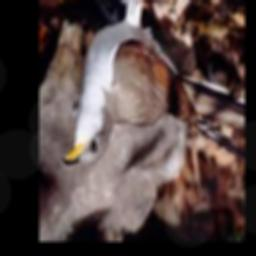Cuckoo: (62, 0, 245, 167)
